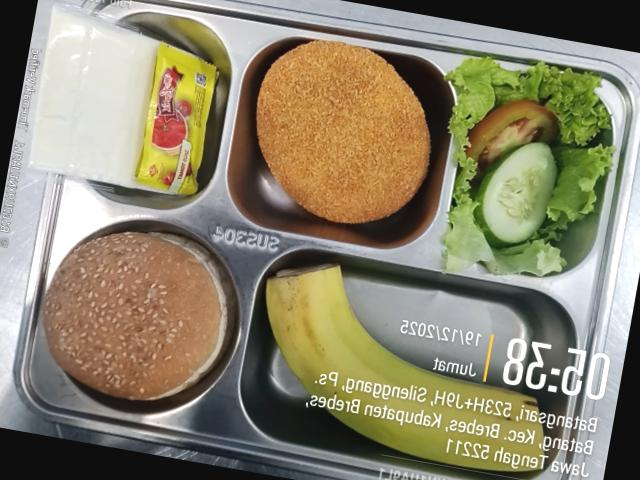ayam: (256, 41, 430, 223)
buah: (265, 264, 542, 471)
keju: (29, 7, 158, 190)
roti: (43, 232, 226, 400)
sayur: (443, 57, 614, 276)
